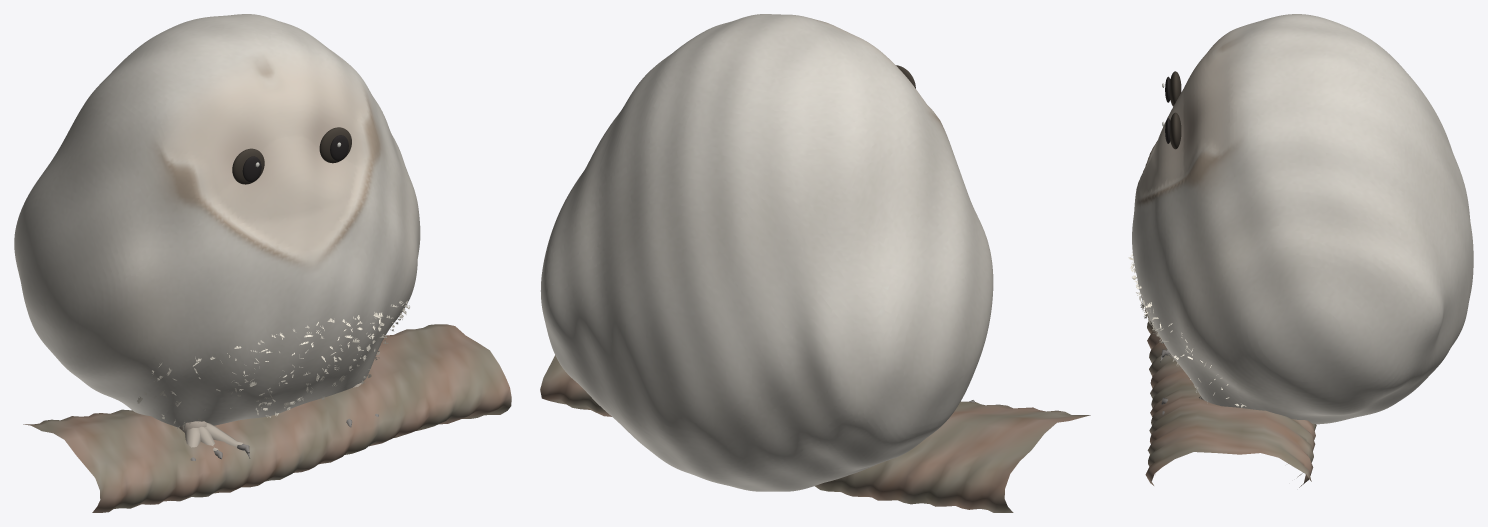
The model's file is owl172_run94_short_cards_0p22_UNAPPROVED.glb.
The picture shows the model from 3 angles, left to right: view 1: azimuth 30°, elevation 25°; view 2: azimuth 150°, elevation 25°; view 3: azimuth 270°, elevation 25°; orthographic projection. The views are drawn at different scales.
Visible parts, largest first — view 1: ORGANIC_CONNECTED_HEAD_BODY_HEART_RELIEF, TEMPORARY_BARK_SUPPORT_RESEARCH_ONLY, Run94_GroomLab_real_3D_cards_PROVISIONAL, eye_gloss_dark_1, eye_gloss_dark_-1; view 2: ORGANIC_CONNECTED_HEAD_BODY_HEART_RELIEF, TEMPORARY_BARK_SUPPORT_RESEARCH_ONLY; view 3: ORGANIC_CONNECTED_HEAD_BODY_HEART_RELIEF, TEMPORARY_BARK_SUPPORT_RESEARCH_ONLY, Run94_GroomLab_real_3D_cards_PROVISIONAL.
Boxes of the visible parts, bbox=[...] form: ORGANIC_CONNECTED_HEAD_BODY_HEART_RELIEF: bbox=[14, 14, 420, 427]; TEMPORARY_BARK_SUPPORT_RESEARCH_ONLY: bbox=[23, 324, 511, 512]; Run94_GroomLab_real_3D_cards_PROVISIONAL: bbox=[137, 300, 409, 430]; eye_gloss_dark_1: bbox=[319, 127, 351, 163]; eye_gloss_dark_-1: bbox=[232, 148, 264, 184]; ORGANIC_CONNECTED_HEAD_BODY_HEART_RELIEF: bbox=[540, 14, 993, 491]; TEMPORARY_BARK_SUPPORT_RESEARCH_ONLY: bbox=[540, 355, 1090, 512]; ORGANIC_CONNECTED_HEAD_BODY_HEART_RELIEF: bbox=[1132, 14, 1473, 424]; TEMPORARY_BARK_SUPPORT_RESEARCH_ONLY: bbox=[1144, 309, 1316, 487]; Run94_GroomLab_real_3D_cards_PROVISIONAL: bbox=[1128, 252, 1246, 407].
Bounding box in the file's own units: 1.3 × 1.25 × 0.9777.
Materials: 2 (1 with a texture image).
